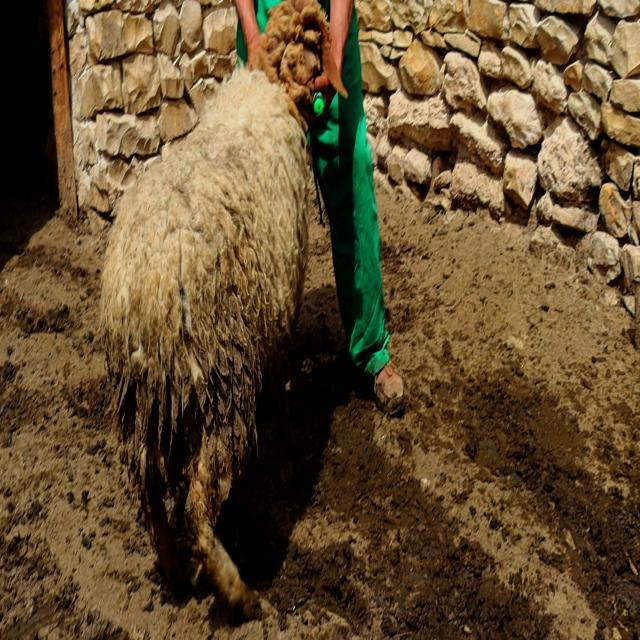Score_2: (101, 0, 347, 617)
